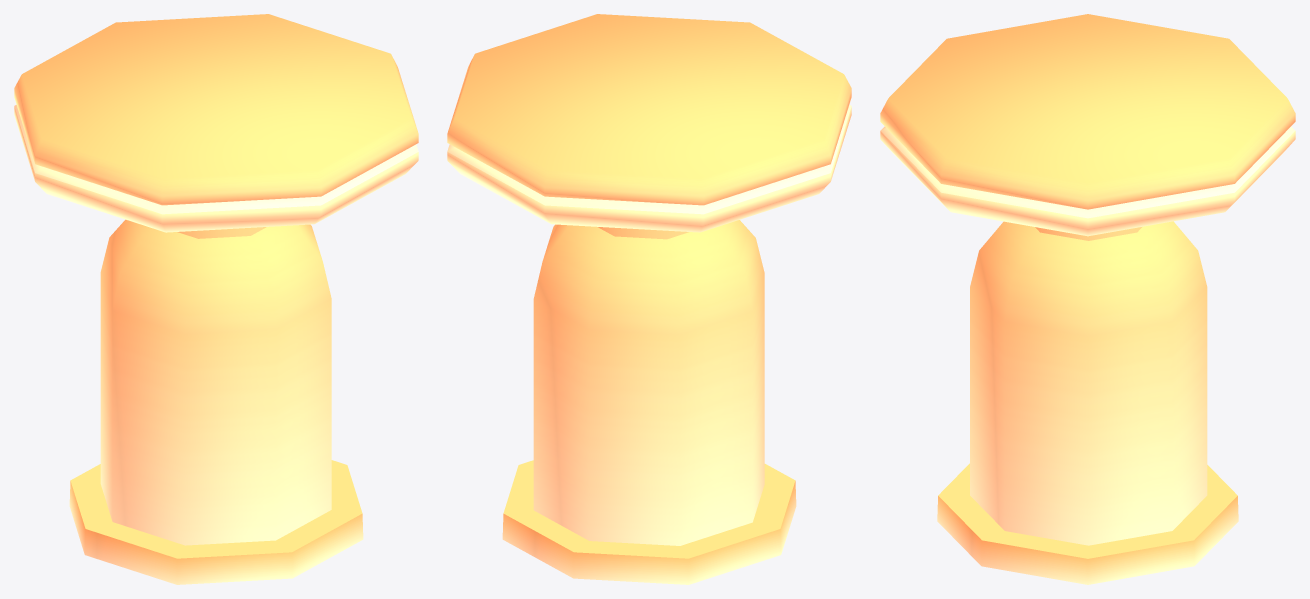
The model's file is wood_grip_105_004.glb.
3 renders of one model, left to right at view 1: azimuth 30°, elevation 25°; view 2: azimuth 150°, elevation 25°; view 3: azimuth 270°, elevation 25°, orthographic.
Parts seen in each view (by area): view 1: wood_grip_105.004; view 2: wood_grip_105.004; view 3: wood_grip_105.004.
Part boxes in pixels (x1,y1,x2,y2): wood_grip_105.004: (14, 14, 418, 584); wood_grip_105.004: (447, 14, 851, 584); wood_grip_105.004: (880, 14, 1295, 584).
Size of the model in its own units: 2.94 by 3.31 by 2.94.
Materials: 1 (1 with a texture image).
